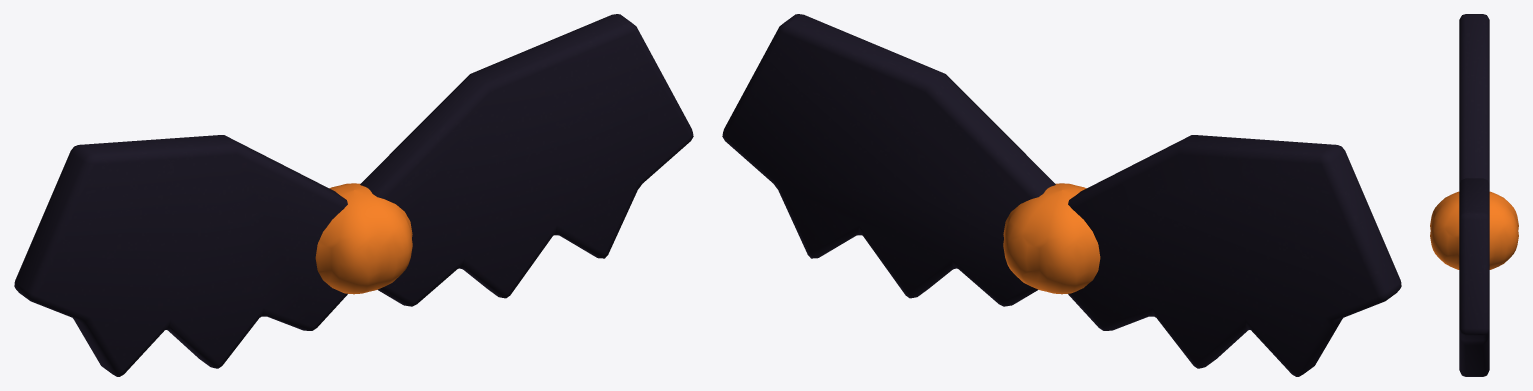
The model's file is bow.glb.
3 views of the same model, side by side, from view 1: azimuth 30°, elevation 25°; view 2: azimuth 150°, elevation 25°; view 3: azimuth 270°, elevation 25° (orthographic). The views are drawn at different scales.
Parts seen in each view (by area): view 1: Bow; view 2: Bow; view 3: Bow.
Boxes of the visible parts, x1,y1,x2,y2 form: Bow: (14,14,693,376); Bow: (722,14,1401,376); Bow: (1430,14,1518,376).
Size of the model in its own units: 0.2677 by 0.0942 by 0.041.
2 materials, 1 textured.
